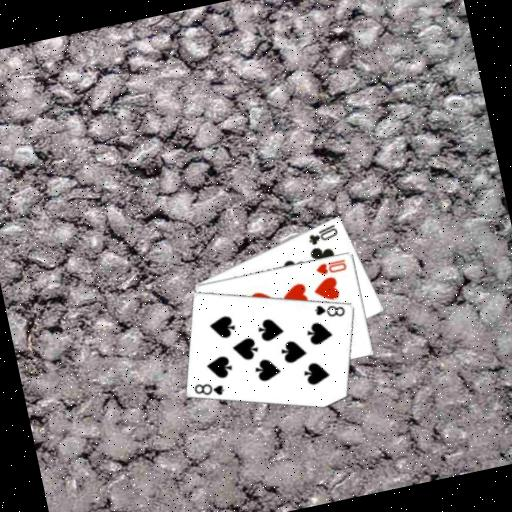10C: (303, 220, 340, 247)
10H: (311, 255, 348, 277)
8S: (310, 296, 347, 323), (190, 375, 227, 402)
